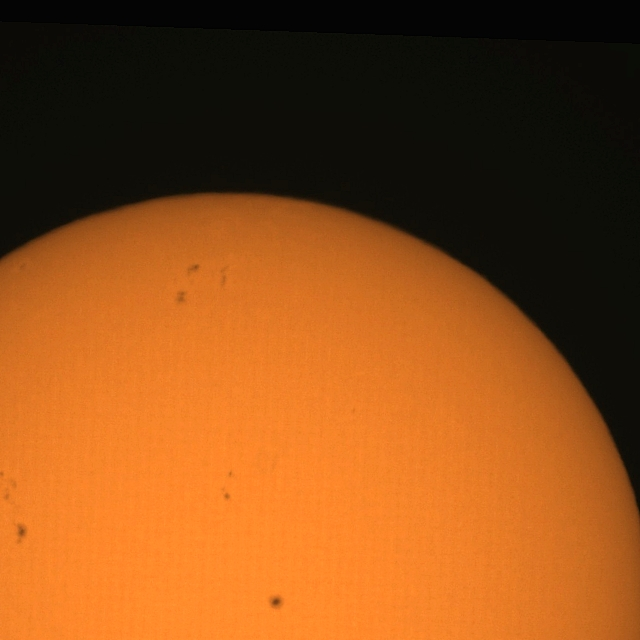sunspot: (0, 470, 18, 505), (13, 520, 29, 546), (267, 593, 285, 612), (175, 290, 189, 306), (185, 263, 201, 277), (220, 486, 232, 502), (227, 470, 234, 479)
